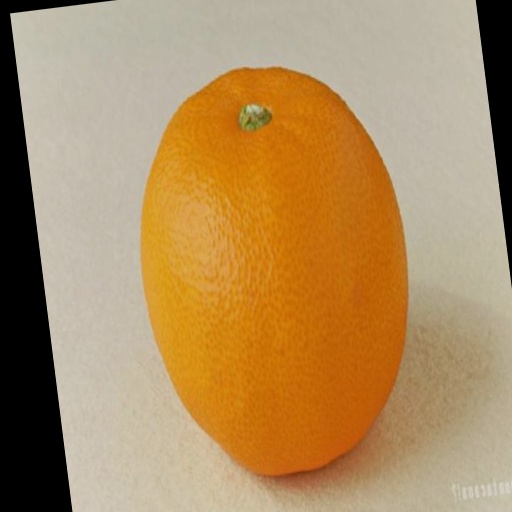fruit: (141, 68, 407, 475)
